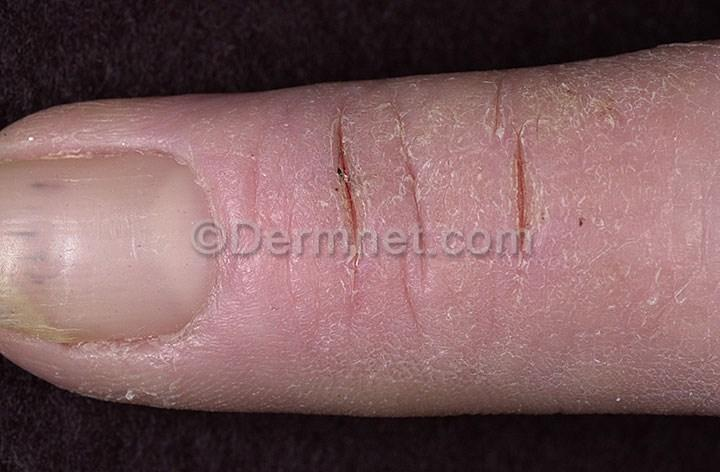Eczema: (322, 93, 382, 223), (518, 76, 643, 127), (498, 127, 555, 224)
